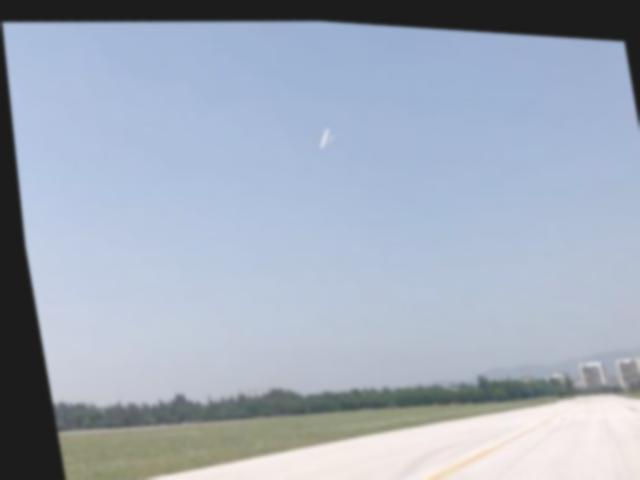uav: (309, 119, 336, 148)
